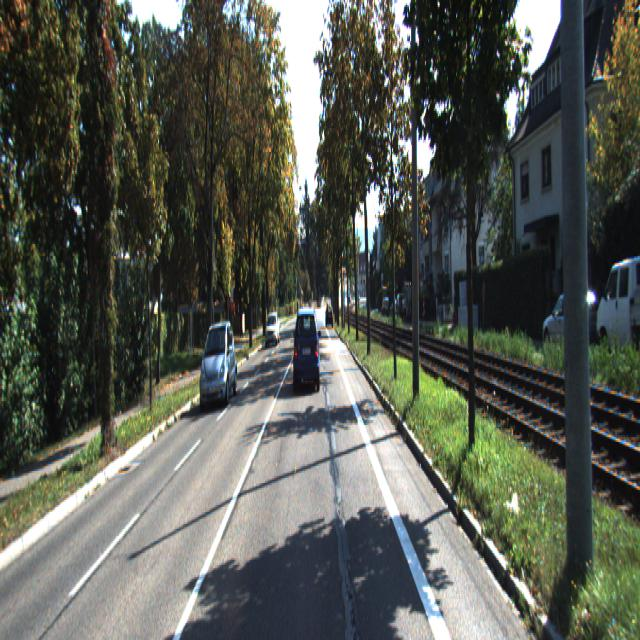Car: (596, 250, 640, 356), (543, 286, 603, 352), (199, 319, 237, 411), (293, 306, 321, 394), (265, 312, 280, 348)
